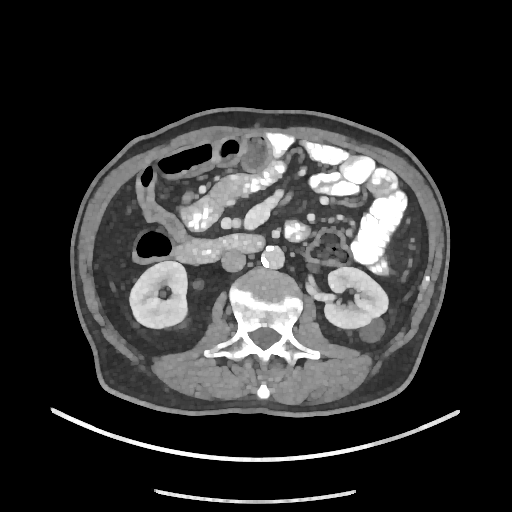Lesion: (356, 314, 390, 345)
